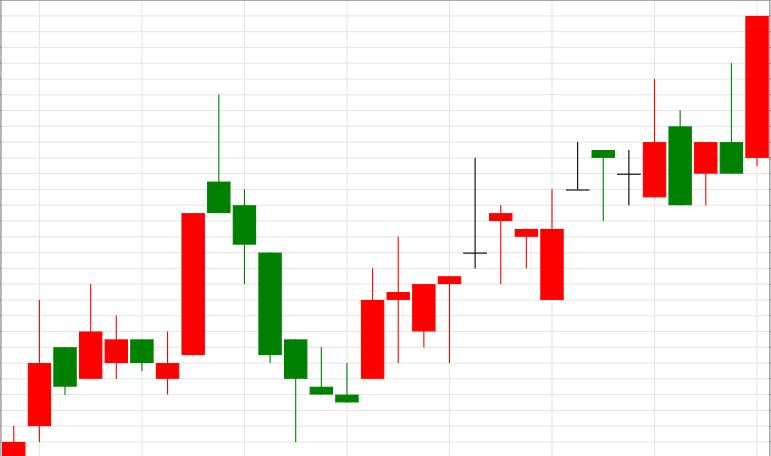hammer_rise: (207, 95, 308, 442)
